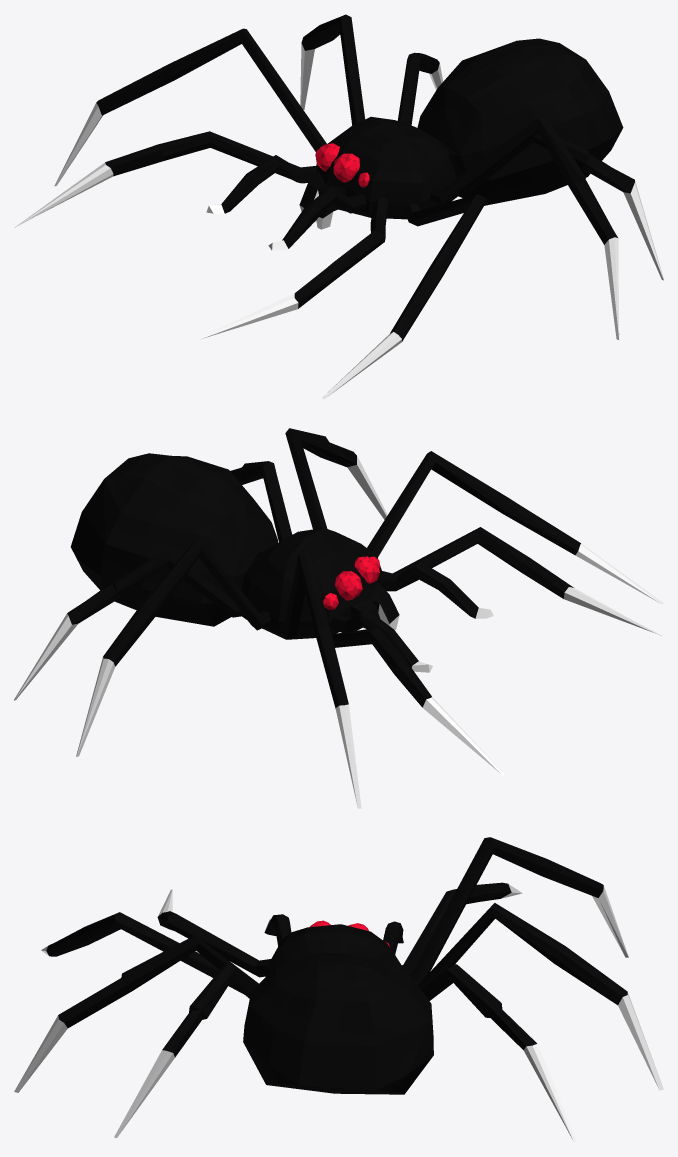
Rendered from spiderAttack10.obj.
3 renders of one model, top to bottom at view 1: azimuth 30°, elevation 25°; view 2: azimuth 150°, elevation 25°; view 3: azimuth 270°, elevation 25°, orthographic. The views are drawn at different scales.
Visible parts, largest first — view 1: Cube.004_Cube.005; view 2: Cube.004_Cube.005; view 3: Cube.004_Cube.005.
Part boxes in pixels (x1,y1,x2,y2): Cube.004_Cube.005: (14, 14, 663, 399); Cube.004_Cube.005: (14, 428, 663, 808); Cube.004_Cube.005: (14, 837, 663, 1142).
Size of the model in its own units: 31.84 by 10.76 by 34.73.
